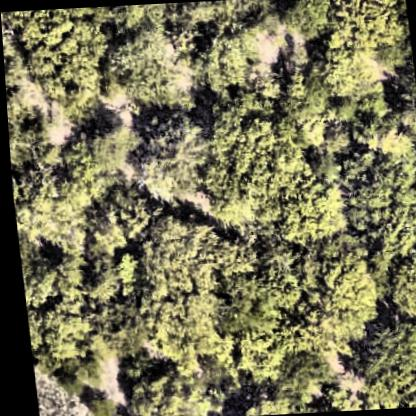tree-top: (195, 88, 310, 203), (122, 254, 229, 360), (12, 9, 112, 114), (16, 256, 98, 359), (124, 119, 212, 206), (293, 252, 371, 338), (344, 316, 416, 409), (98, 26, 182, 104), (64, 180, 149, 257), (9, 173, 102, 242), (340, 147, 416, 231), (267, 169, 350, 245), (111, 353, 205, 416), (181, 23, 255, 92), (365, 233, 416, 323), (215, 264, 272, 336), (5, 103, 68, 167), (265, 344, 333, 401), (68, 113, 143, 164), (167, 0, 276, 30), (271, 0, 333, 39), (80, 383, 115, 416)
